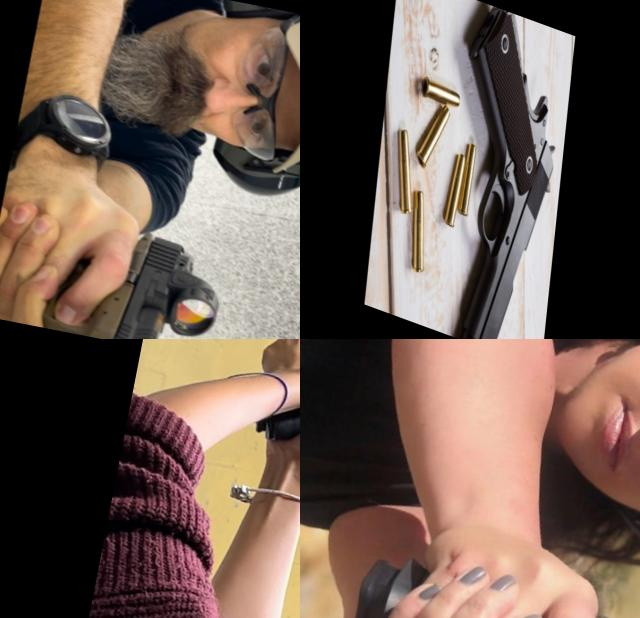handgun: (436, 0, 570, 339), (19, 207, 232, 339), (303, 546, 640, 618), (244, 339, 300, 472)
